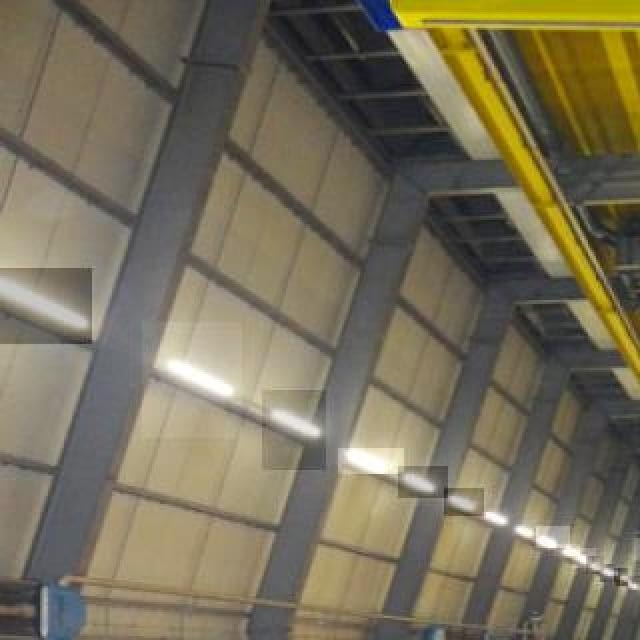fluorescent tube: (158, 342, 240, 422), (0, 286, 98, 337), (265, 406, 333, 458), (322, 442, 407, 480), (396, 469, 449, 495), (445, 487, 482, 520)
